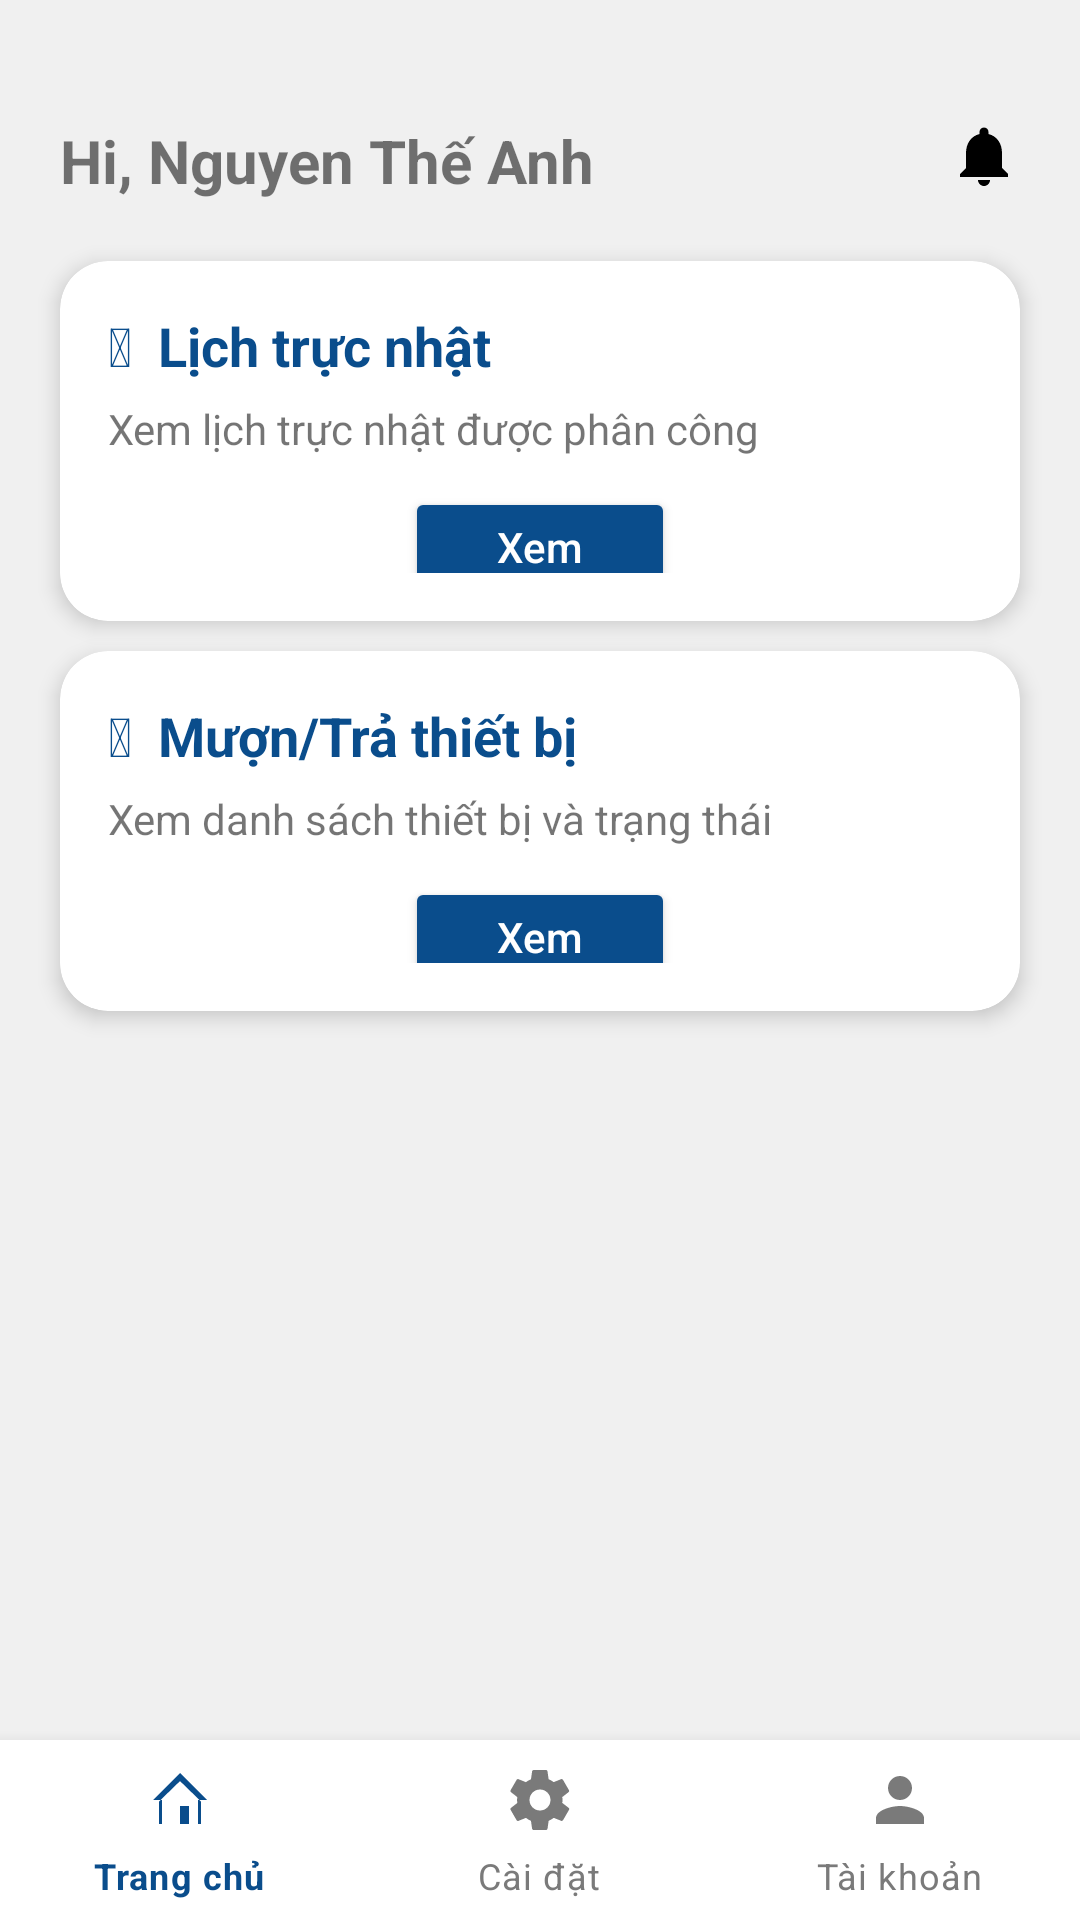

Icon click points for this 1080*1920 phone screenshot, format (x=x, y=y):
notifications: (x=984, y=156)
